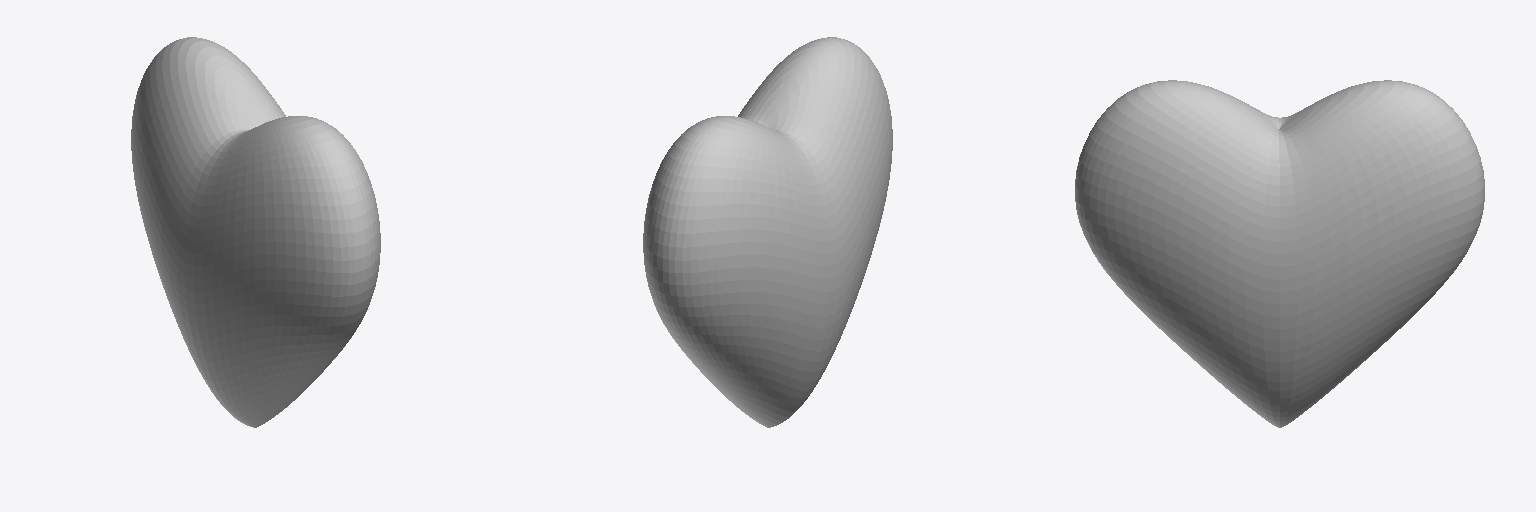
File: health.obj
3 renders of one model, left to right at view 1: azimuth 30°, elevation 25°; view 2: azimuth 150°, elevation 25°; view 3: azimuth 270°, elevation 25°, orthographic.
Visible parts, largest first — view 1: health:Heart; view 2: health:Heart; view 3: health:Heart.
Part boxes in pixels (bbox=[...]): health:Heart: bbox=[131, 37, 380, 427]; health:Heart: bbox=[643, 37, 892, 427]; health:Heart: bbox=[1075, 80, 1484, 427].
Bounding box in the file's own units: 0.6231 × 1.44 × 1.56.